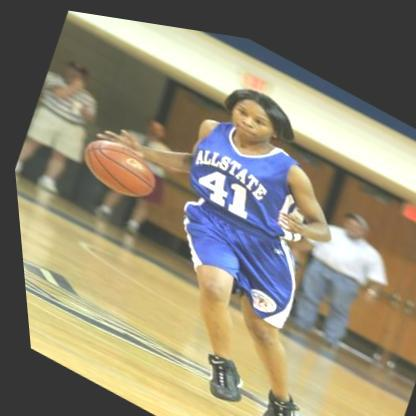basketball: (68, 122, 161, 207)
